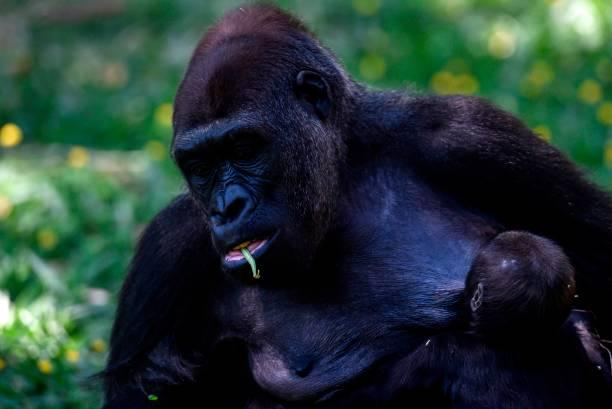gorille_Autres: (124, 0, 605, 407)
